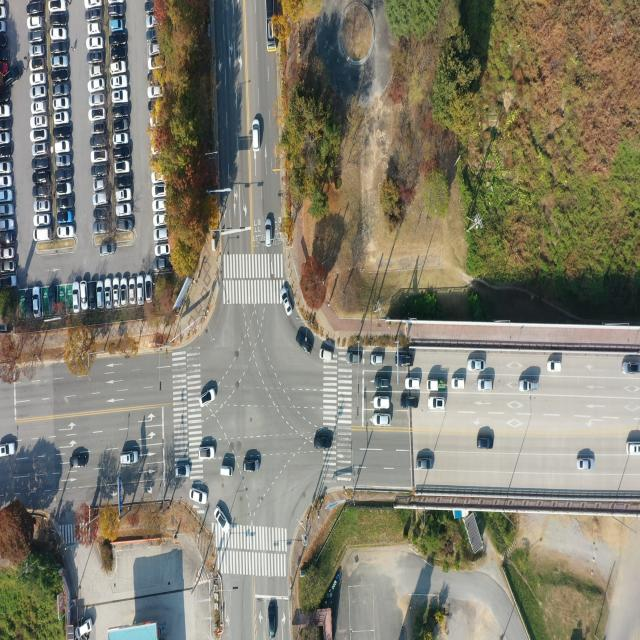car: (297, 329, 314, 357), (4, 66, 23, 86), (75, 618, 92, 640), (216, 509, 230, 533), (201, 389, 218, 407), (282, 290, 293, 317), (268, 601, 276, 638), (318, 434, 336, 450), (50, 12, 68, 28), (190, 488, 207, 504), (152, 257, 170, 272), (252, 118, 260, 151), (0, 443, 17, 458), (54, 124, 72, 138), (50, 0, 69, 13), (623, 361, 640, 375), (109, 32, 126, 46), (520, 380, 538, 393), (466, 359, 484, 372), (416, 458, 434, 471), (88, 108, 107, 120), (175, 464, 191, 478), (58, 227, 75, 240), (119, 453, 137, 465), (33, 172, 51, 184), (320, 349, 334, 364), (579, 458, 595, 471), (55, 141, 71, 154), (52, 28, 68, 41), (114, 162, 130, 175), (57, 182, 73, 195), (112, 118, 128, 131), (34, 230, 50, 243), (399, 354, 415, 367), (0, 145, 13, 161), (375, 415, 392, 427), (53, 57, 70, 69), (400, 396, 417, 408), (243, 460, 260, 472), (71, 457, 88, 469), (105, 278, 112, 307), (33, 288, 40, 317), (80, 281, 87, 310), (49, 285, 56, 314), (0, 218, 15, 231), (91, 79, 106, 92), (479, 439, 494, 452), (58, 211, 73, 224), (375, 396, 391, 408), (116, 218, 132, 230), (428, 397, 444, 409), (112, 134, 128, 146), (93, 150, 109, 162), (115, 189, 131, 201), (55, 86, 71, 98), (200, 448, 216, 460), (108, 4, 124, 16), (58, 170, 74, 182), (93, 136, 109, 148), (58, 198, 74, 210), (0, 86, 10, 105), (95, 192, 109, 205), (28, 15, 42, 28), (152, 185, 166, 198), (479, 380, 494, 392), (112, 92, 127, 104), (91, 95, 106, 107), (115, 205, 130, 217), (35, 200, 50, 212), (89, 37, 104, 49), (111, 76, 126, 88), (111, 63, 126, 75), (32, 130, 47, 142), (33, 160, 48, 172), (28, 2, 43, 14), (34, 185, 49, 197), (56, 157, 72, 168), (376, 379, 392, 390), (53, 42, 69, 53), (73, 283, 79, 312), (265, 218, 271, 247), (155, 200, 168, 213), (0, 176, 13, 189), (148, 87, 161, 100), (0, 205, 14, 217), (157, 244, 171, 256), (156, 230, 170, 242), (0, 105, 12, 119), (110, 20, 124, 32), (32, 102, 46, 114), (31, 44, 45, 56), (33, 144, 47, 156), (32, 88, 46, 100), (96, 222, 110, 234), (348, 353, 362, 365), (548, 360, 562, 372), (32, 73, 46, 85), (30, 32, 44, 44), (138, 277, 144, 305), (120, 278, 126, 306), (98, 280, 104, 308), (146, 275, 152, 303), (91, 66, 105, 78), (35, 215, 50, 226), (32, 116, 47, 127), (55, 99, 70, 110), (113, 278, 119, 305), (112, 148, 128, 158), (1, 248, 14, 260), (0, 190, 13, 202), (628, 444, 640, 457), (2, 262, 15, 274), (129, 278, 135, 304), (89, 281, 95, 307), (0, 119, 12, 132), (451, 379, 465, 390), (407, 379, 421, 390), (56, 113, 70, 124), (96, 209, 110, 220), (156, 214, 168, 226), (90, 24, 102, 36), (0, 133, 11, 146), (102, 244, 115, 255), (95, 166, 108, 177), (89, 9, 102, 20), (90, 54, 104, 64), (0, 164, 12, 175), (148, 42, 158, 55), (372, 354, 385, 364), (32, 60, 45, 70), (146, 14, 156, 27), (95, 126, 108, 136), (95, 180, 107, 190), (220, 466, 232, 476), (88, 0, 102, 8), (0, 6, 7, 19), (0, 22, 7, 34)
large_bus: (265, 0, 277, 54)
small_truck: (426, 380, 444, 392)
